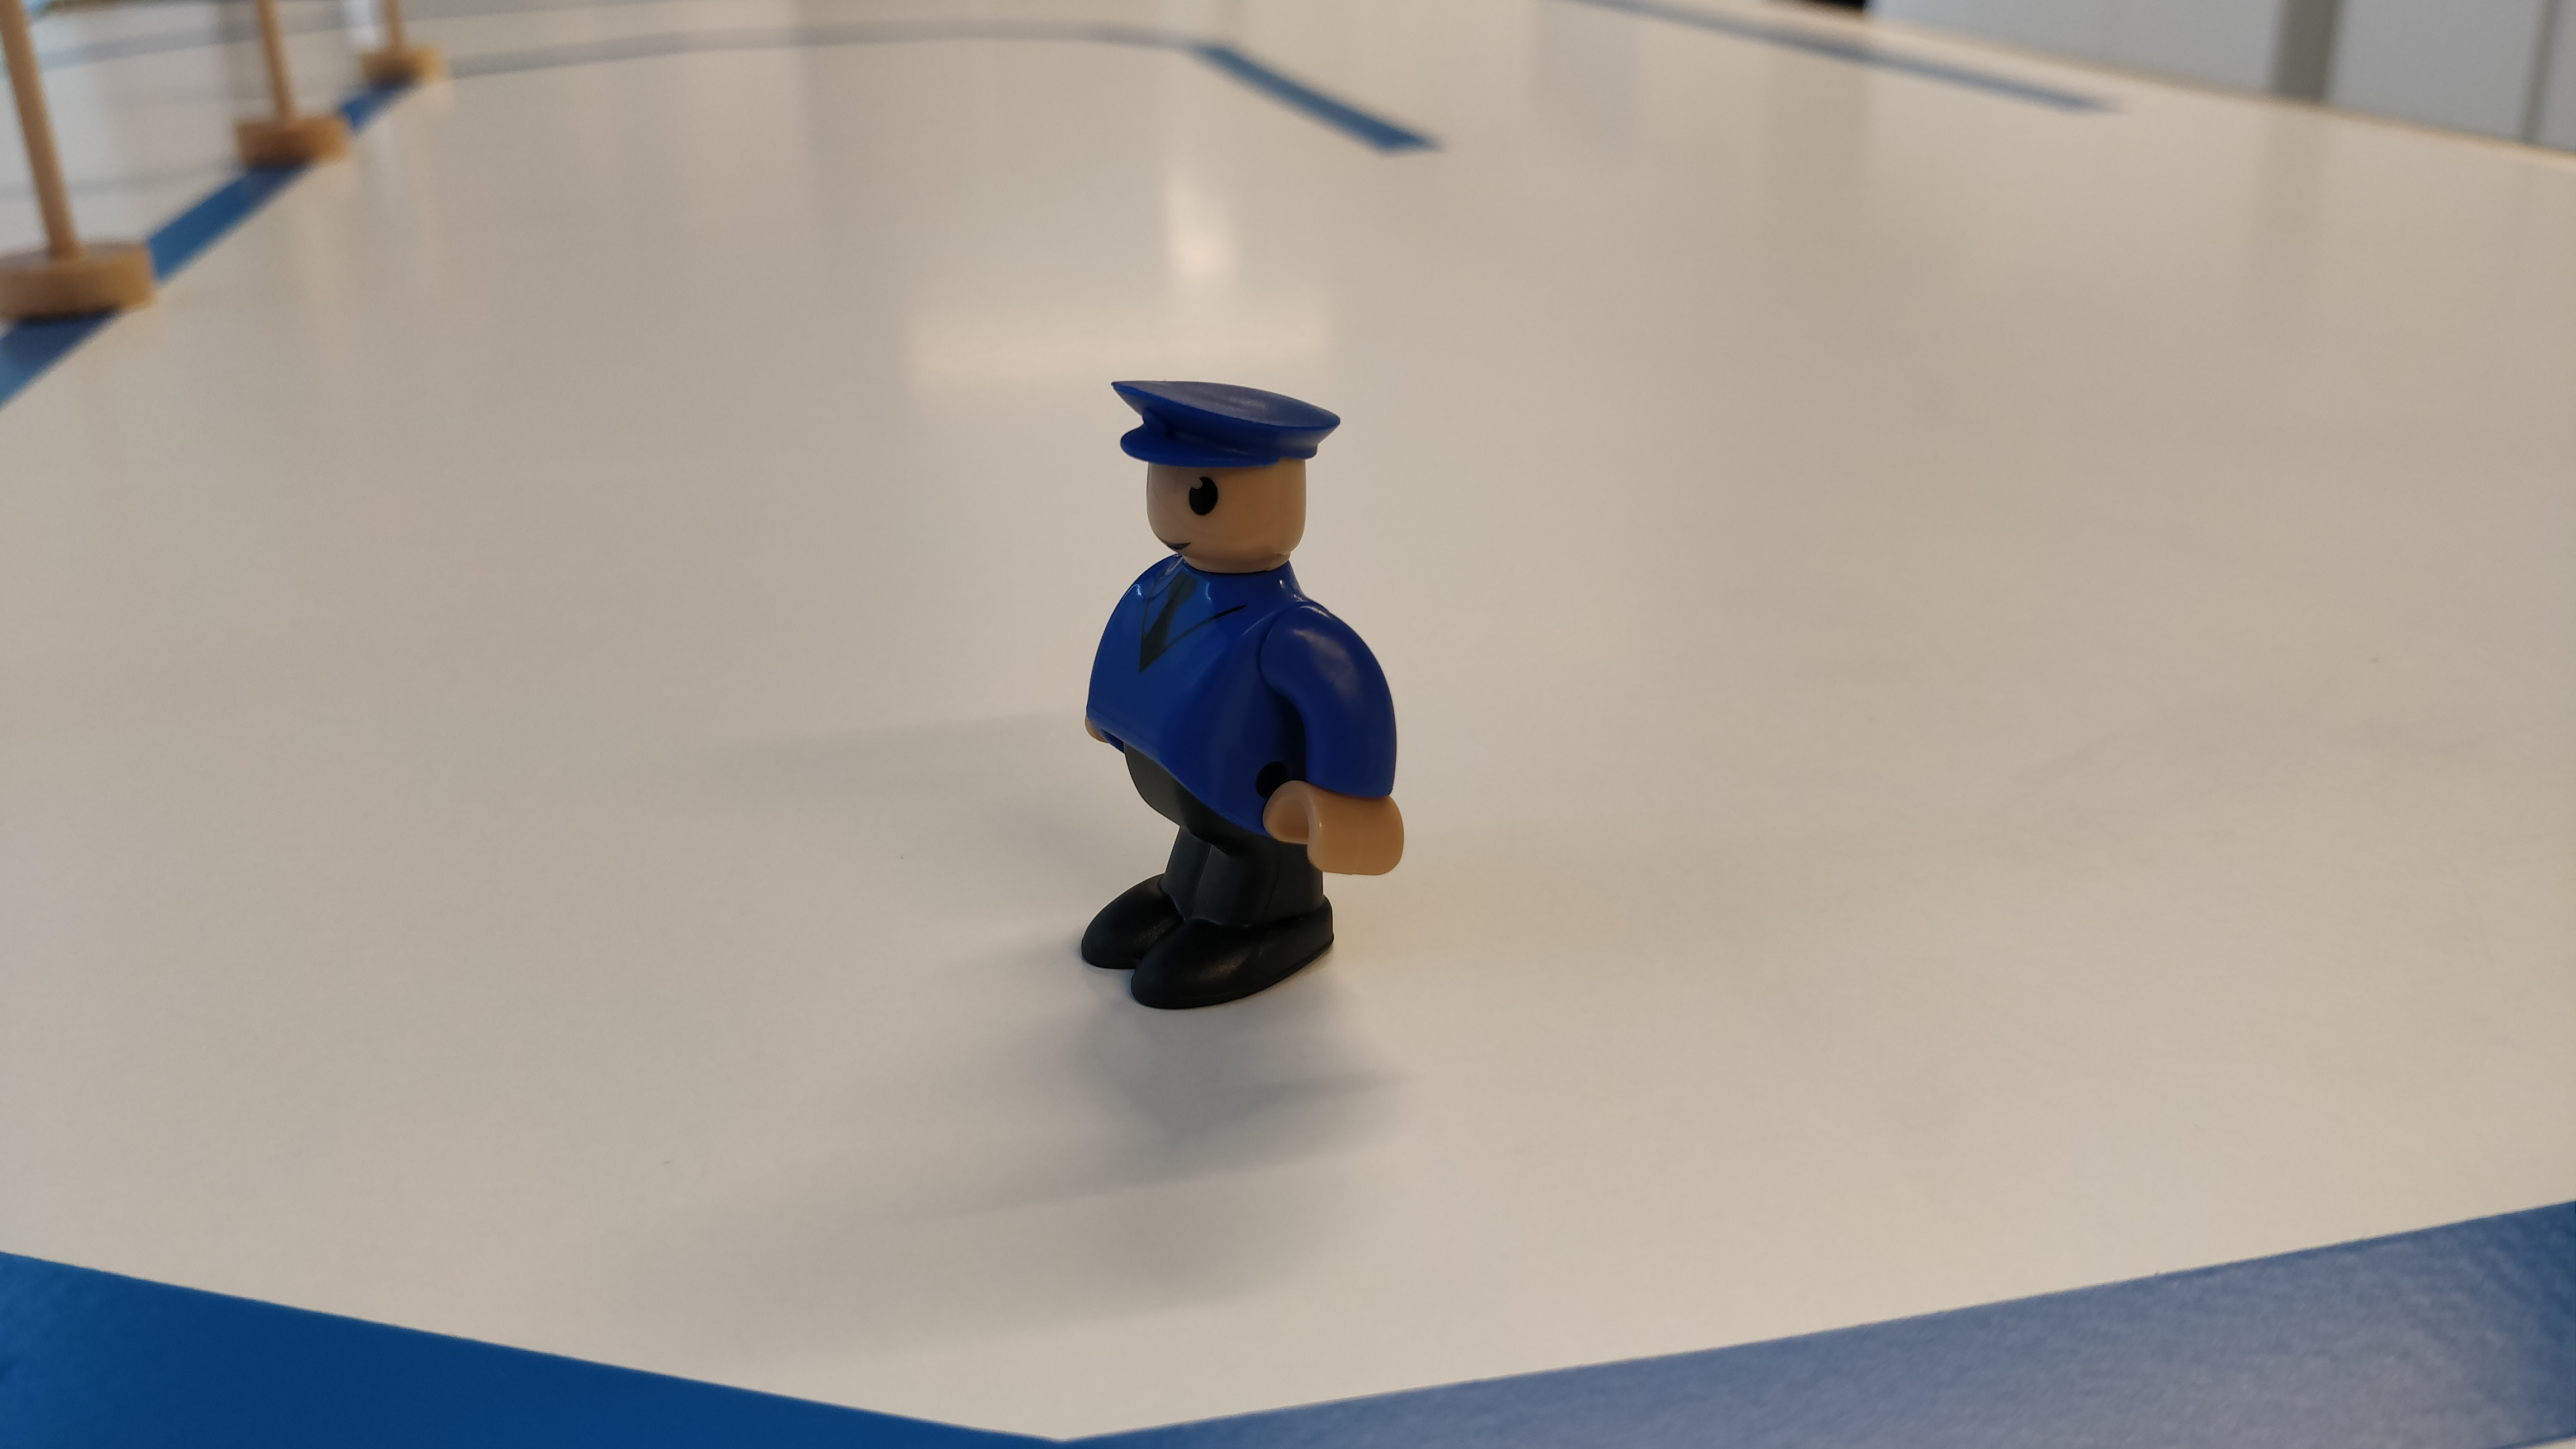Person: (1074, 381, 1412, 1016)
